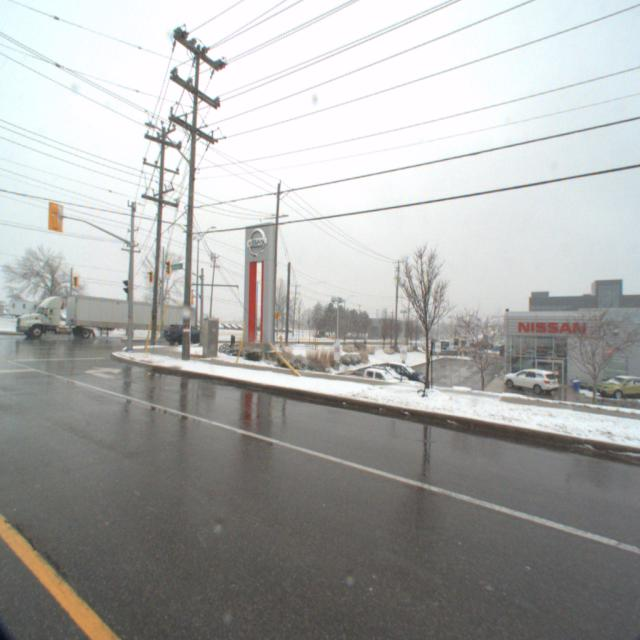Car: (497, 364, 559, 398), (156, 326, 208, 350)
Truck: (11, 295, 199, 356)
